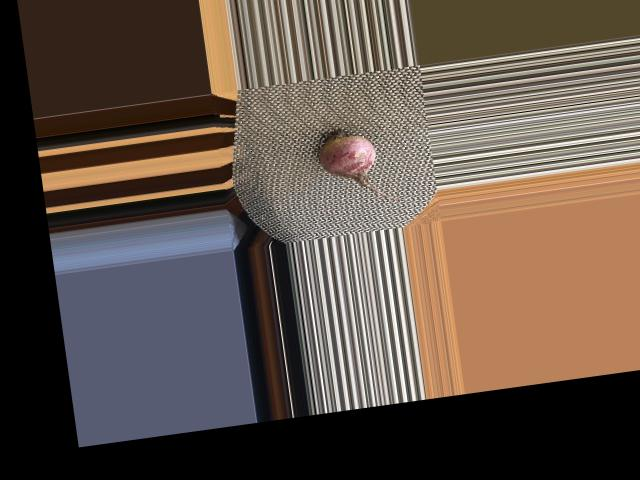beet: (314, 120, 407, 211)
